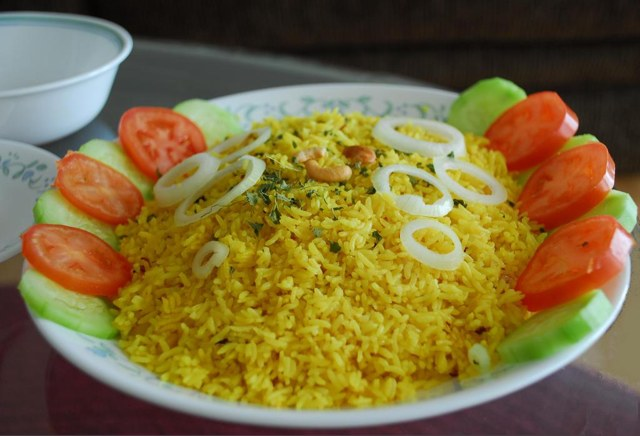tomato: (516, 213, 635, 307), (513, 140, 616, 232), (478, 88, 580, 176), (18, 223, 134, 296), (116, 106, 207, 184), (54, 152, 146, 226)
